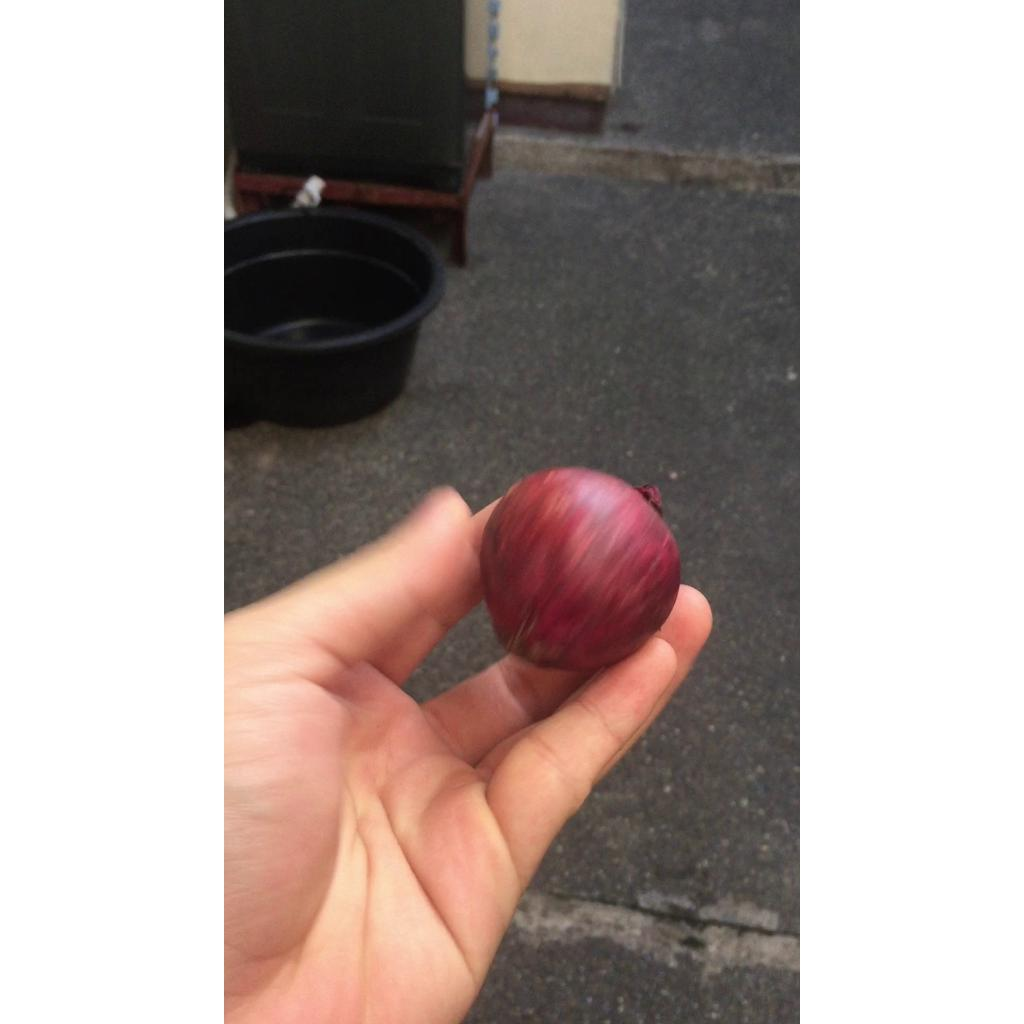Onion: (480, 468, 681, 671)
